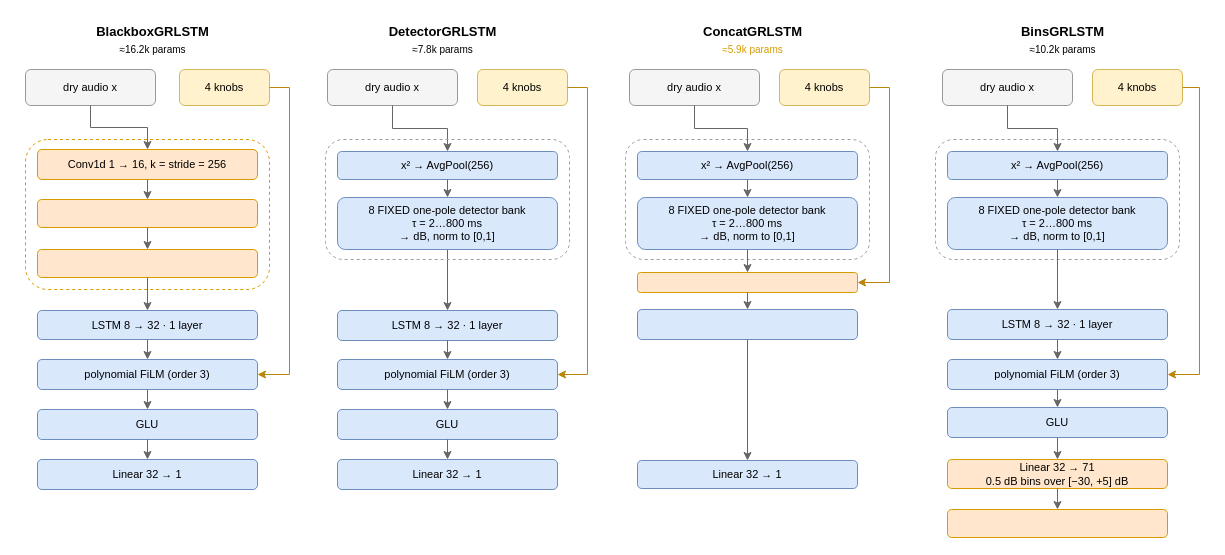
Image size: 1225x555. Some labels were removed from this diagram. The shapes that lost their labels are listed below. From the top down, each one's centre as x and y in pixels, then its label:
the point at 147,213: TCN (4x16) k=4 d={1, 4, 16, 64}
the point at 147,263: 1×1 Conv → 8
the point at 747,282: concat [envs(8) ‖ knobs(4)] → 12
the point at 747,324: LSTM 12 → 32 · 1 layer
the point at 1057,523: local-avg around argmax
